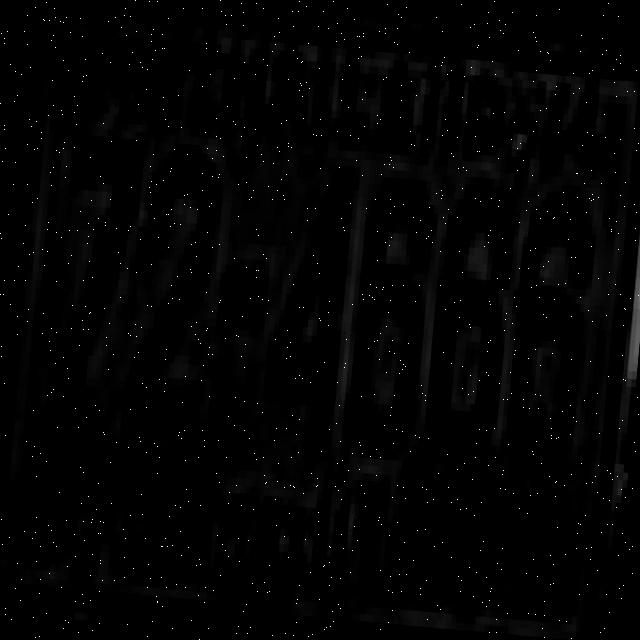2: (123, 140, 219, 427)
4: (259, 156, 351, 442)
6: (422, 175, 514, 452), (341, 171, 432, 449), (501, 186, 592, 464)
7: (44, 126, 141, 420)
SaraBuri: (200, 454, 400, 602)
